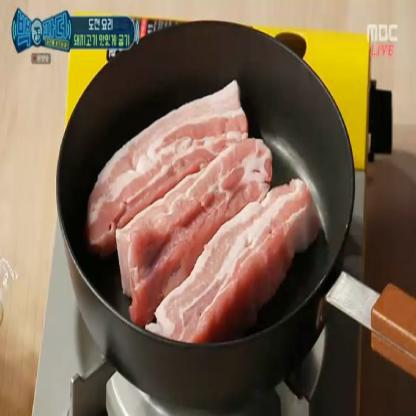pork: (90, 92, 326, 348)
